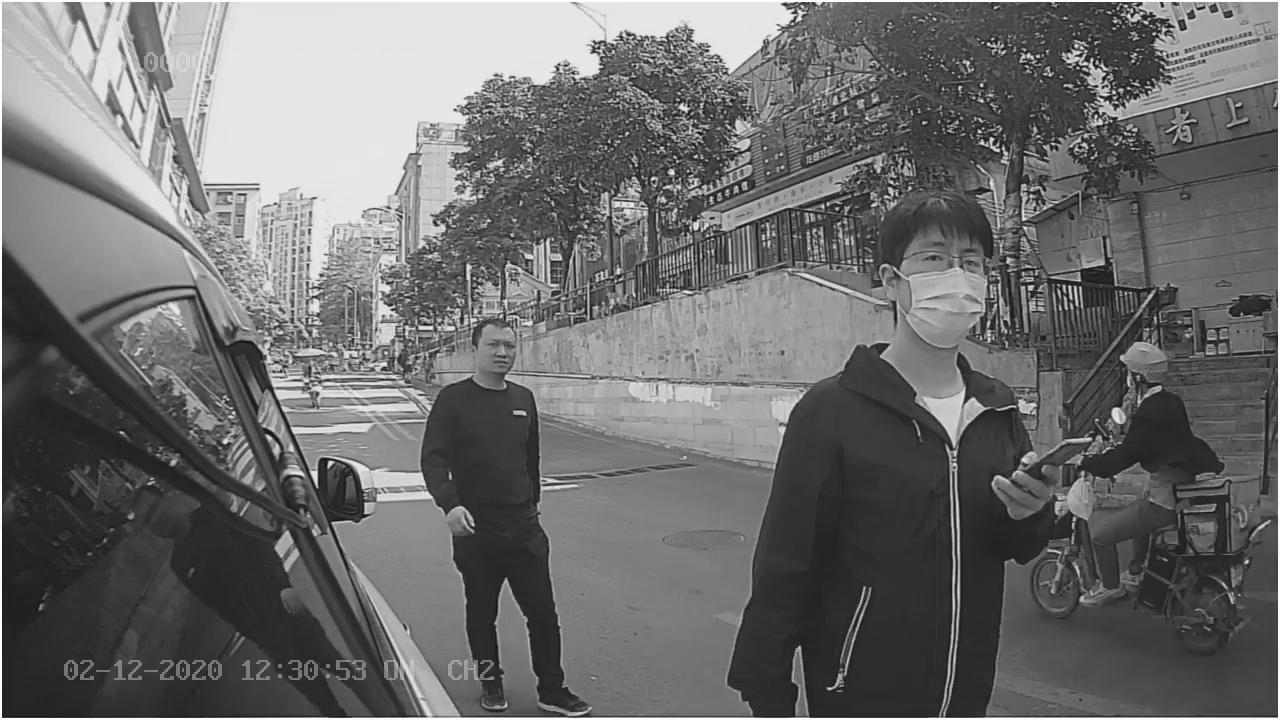person: (758, 185, 1054, 570), (405, 316, 560, 533)
